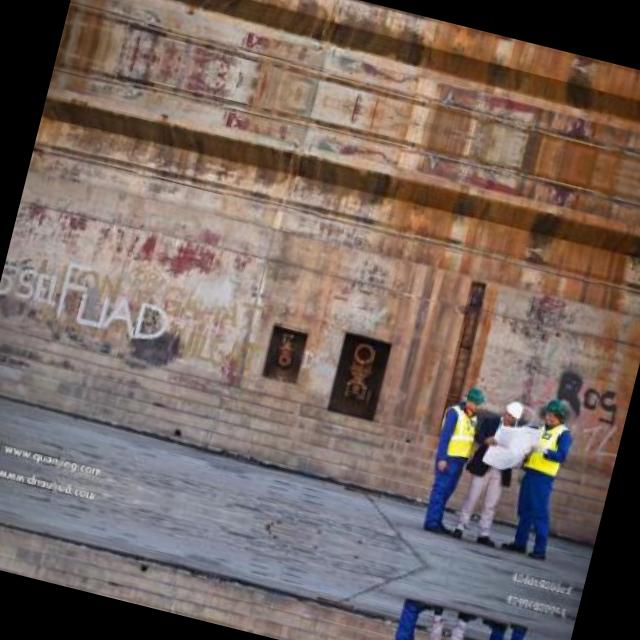helmet: (538, 394, 570, 430), (459, 383, 486, 412), (501, 397, 525, 425)
